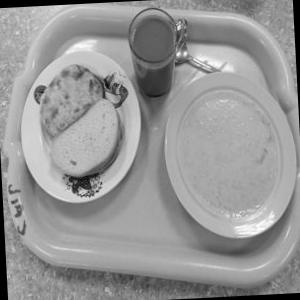bread: (48, 93, 129, 187)
cheese_sandwich: (28, 61, 111, 134)
coffee: (122, 3, 188, 105)
porridge: (169, 66, 287, 231)
